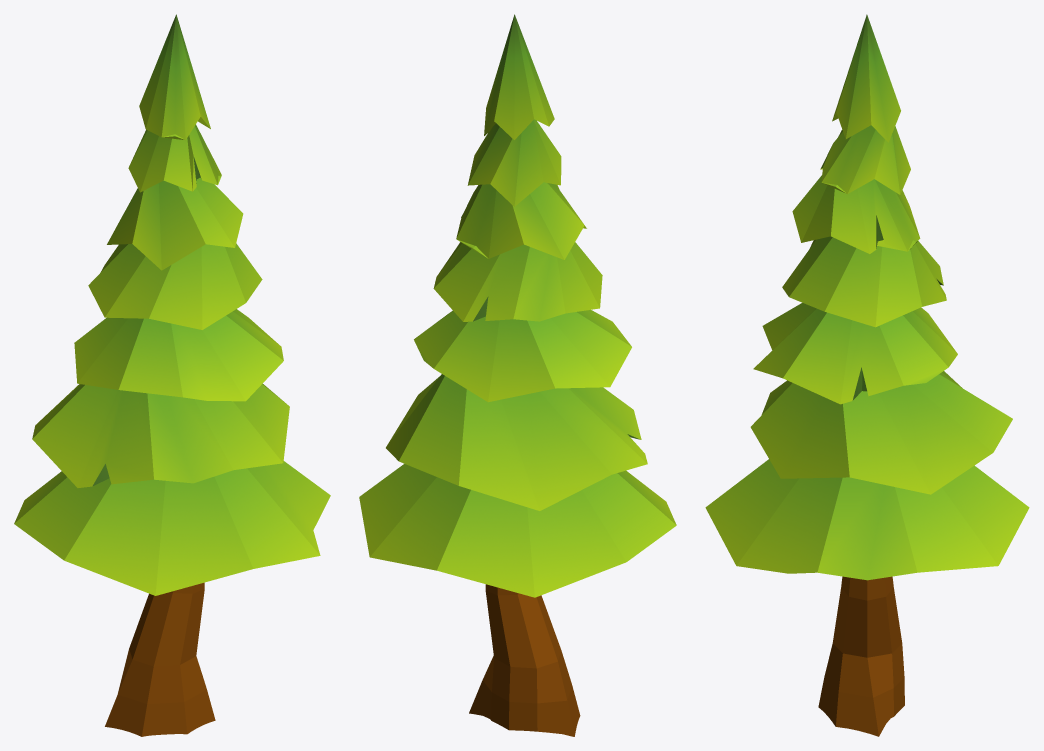
The model's file is sapin.glb.
The picture shows the model from 3 angles, left to right: view 1: azimuth 30°, elevation 25°; view 2: azimuth 150°, elevation 25°; view 3: azimuth 270°, elevation 25°; orthographic projection.
Visible parts, largest first — view 1: Cylinder_Material.002_0, Cylinder_Material.001_0; view 2: Cylinder_Material.002_0, Cylinder_Material.001_0; view 3: Cylinder_Material.002_0, Cylinder_Material.001_0.
Boxes of the visible parts, bbox=[...] form: Cylinder_Material.002_0: bbox=[14, 14, 330, 595]; Cylinder_Material.001_0: bbox=[105, 582, 215, 736]; Cylinder_Material.002_0: bbox=[359, 14, 676, 597]; Cylinder_Material.001_0: bbox=[469, 584, 580, 736]; Cylinder_Material.002_0: bbox=[705, 14, 1029, 580]; Cylinder_Material.001_0: bbox=[818, 576, 904, 736].
Bounding box in the file's own units: 1.36 × 3.42 × 1.43.
2 materials, 2 textured.
